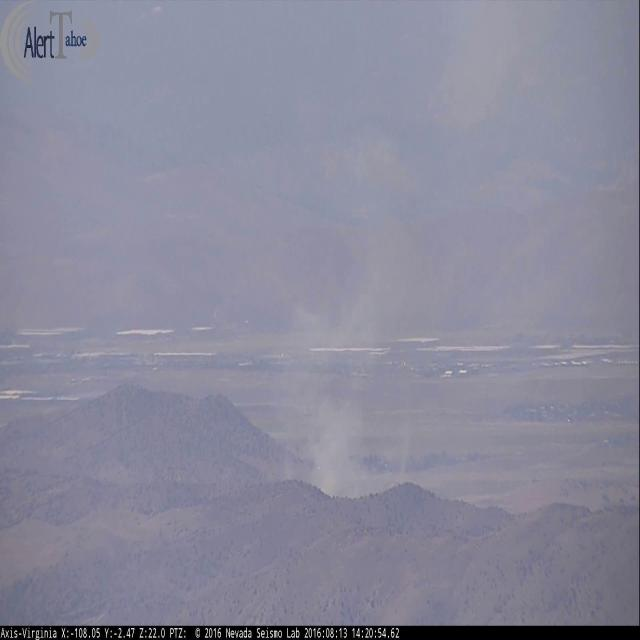smoke: (282, 0, 556, 496)
